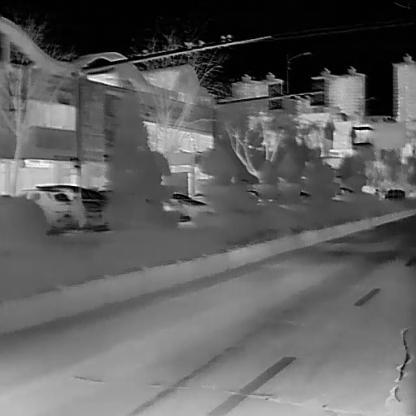car: (34, 184, 102, 229), (17, 189, 74, 229), (158, 192, 209, 223)
